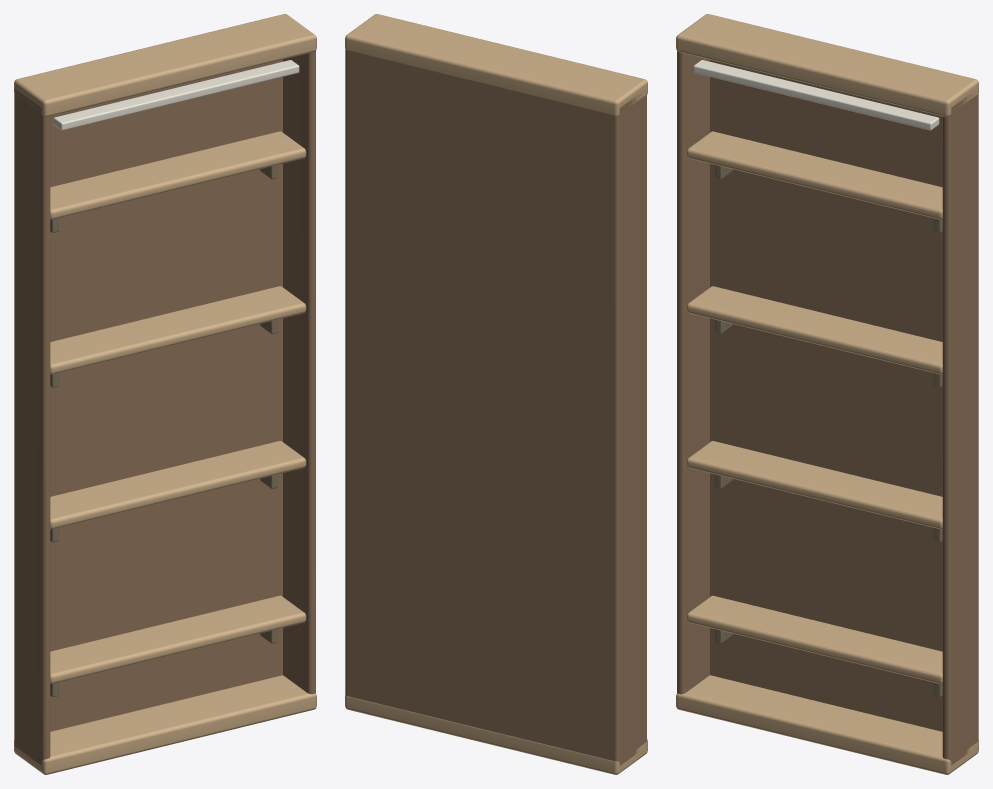
Rendered from wall_beauty_narrow.glb.
The picture shows the model from 3 angles, left to right: view 1: azimuth 30°, elevation 25°; view 2: azimuth 150°, elevation 25°; view 3: azimuth 330°, elevation 25°; orthographic projection.
Parts seen in each view (by area): view 1: Closed back, seated against existing opaque boundary, Outer stile, Outer stile.001, Bottom / crown.001, Bottom / crown, Load-bearing shelf, Load-bearing shelf.002, Load-bearing shelf.001, Load-bearing shelf.003, Integrated light diffuser; view 2: Closed back, seated against existing opaque boundary, Outer stile, Bottom / crown.001, Bottom / crown; view 3: Closed back, seated against existing opaque boundary, Outer stile.001, Outer stile, Bottom / crown.001, Bottom / crown, Load-bearing shelf, Load-bearing shelf.002, Load-bearing shelf.001, Load-bearing shelf.003, Integrated light diffuser.
Boxes of the visible parts, <box> form: Closed back, seated against existing opaque boundary: <box>14,59,282,745</box>; Outer stile: <box>15,89,50,765</box>; Outer stile.001: <box>283,51,315,694</box>; Bottom / crown.001: <box>14,14,316,116</box>; Bottom / crown: <box>14,675,316,774</box>; Load-bearing shelf: <box>50,595,306,683</box>; Load-bearing shelf.002: <box>50,286,306,374</box>; Load-bearing shelf.001: <box>50,441,306,529</box>; Load-bearing shelf.003: <box>50,131,306,219</box>; Integrated light diffuser: <box>53,60,299,130</box>; Closed back, seated against existing opaque boundary: <box>345,49,620,765</box>; Outer stile: <box>620,91,646,765</box>; Bottom / crown.001: <box>345,14,647,115</box>; Bottom / crown: <box>345,695,647,774</box>; Closed back, seated against existing opaque boundary: <box>710,59,978,741</box>; Outer stile.001: <box>942,91,977,765</box>; Outer stile: <box>677,51,709,694</box>; Bottom / crown.001: <box>676,14,978,116</box>; Bottom / crown: <box>676,675,978,774</box>; Load-bearing shelf: <box>686,595,942,683</box>; Load-bearing shelf.002: <box>686,286,942,374</box>; Load-bearing shelf.001: <box>686,441,942,529</box>; Load-bearing shelf.003: <box>686,131,942,219</box>; Integrated light diffuser: <box>693,60,939,130</box>.
Size of the model in its own units: 1 by 2.36 by 0.2.
